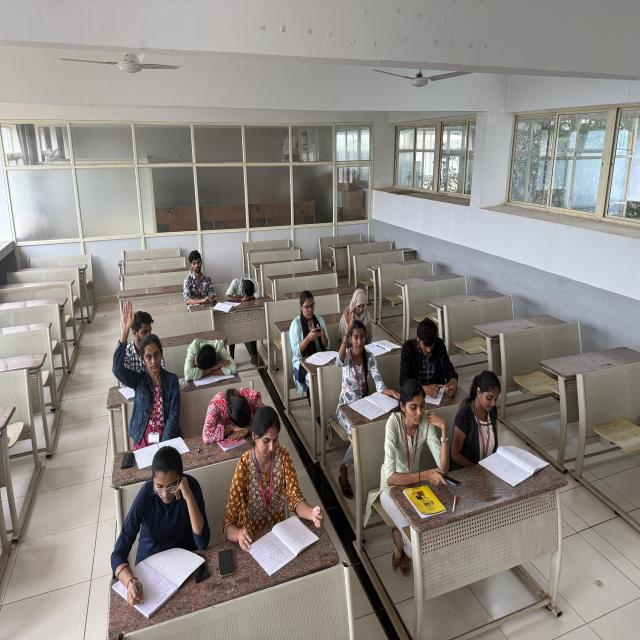Hand Rising: (111, 299, 185, 425), (335, 304, 380, 389)
Reading: (226, 409, 323, 546), (455, 369, 524, 474), (398, 316, 459, 399)
Sleeping: (199, 385, 276, 447), (180, 331, 236, 382), (225, 274, 262, 305)
Using Phone: (380, 381, 460, 494), (287, 287, 332, 361), (338, 285, 378, 347)
Writing: (110, 444, 208, 608)
